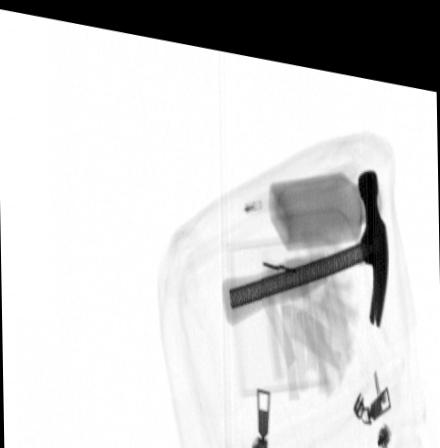Hammer: (220, 152, 389, 313)
